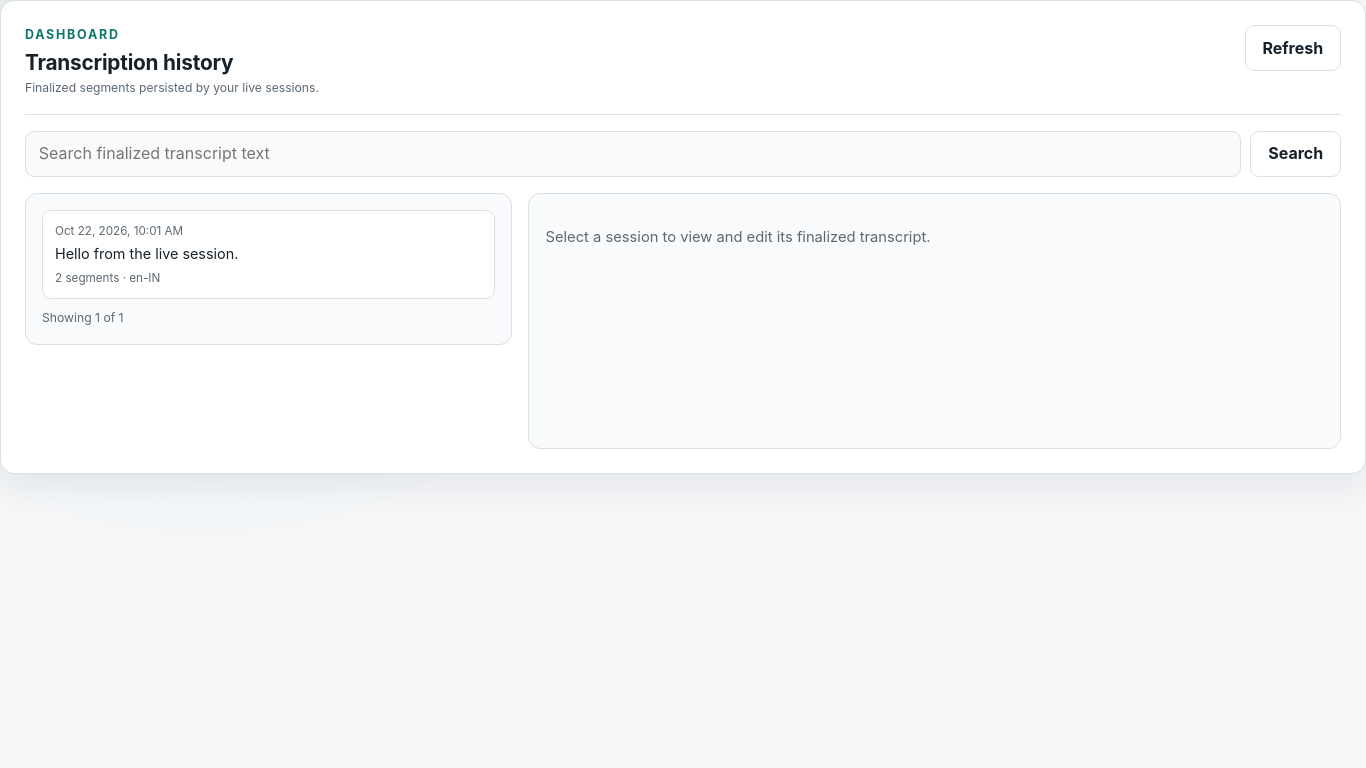
HistoryDashboard › lists sessions and loads a selected transcript in order
What coordinates should you click on to do the following:
click the button "Hello from the live session"
I would click on:
 (119, 231)
Its box is [42,210,496,299].
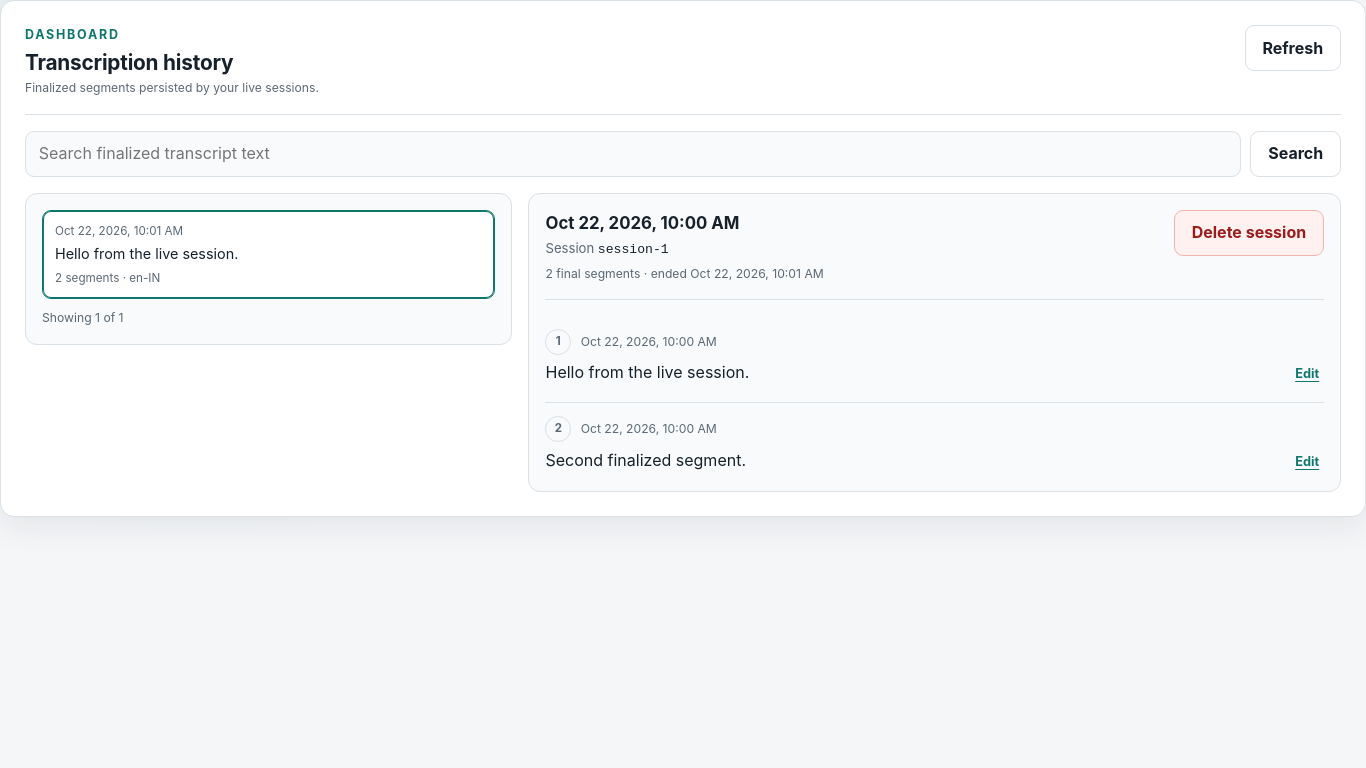
Expected: the 1st text "Hello from the live session." is shown, [55,243,238,266]
Result: the text "Second finalized segment." is shown at [546,448,746,472]
Result: the text "2 final segments · ended Oct 22, 2026, 10:01 AM" is shown at [546,265,824,284]
